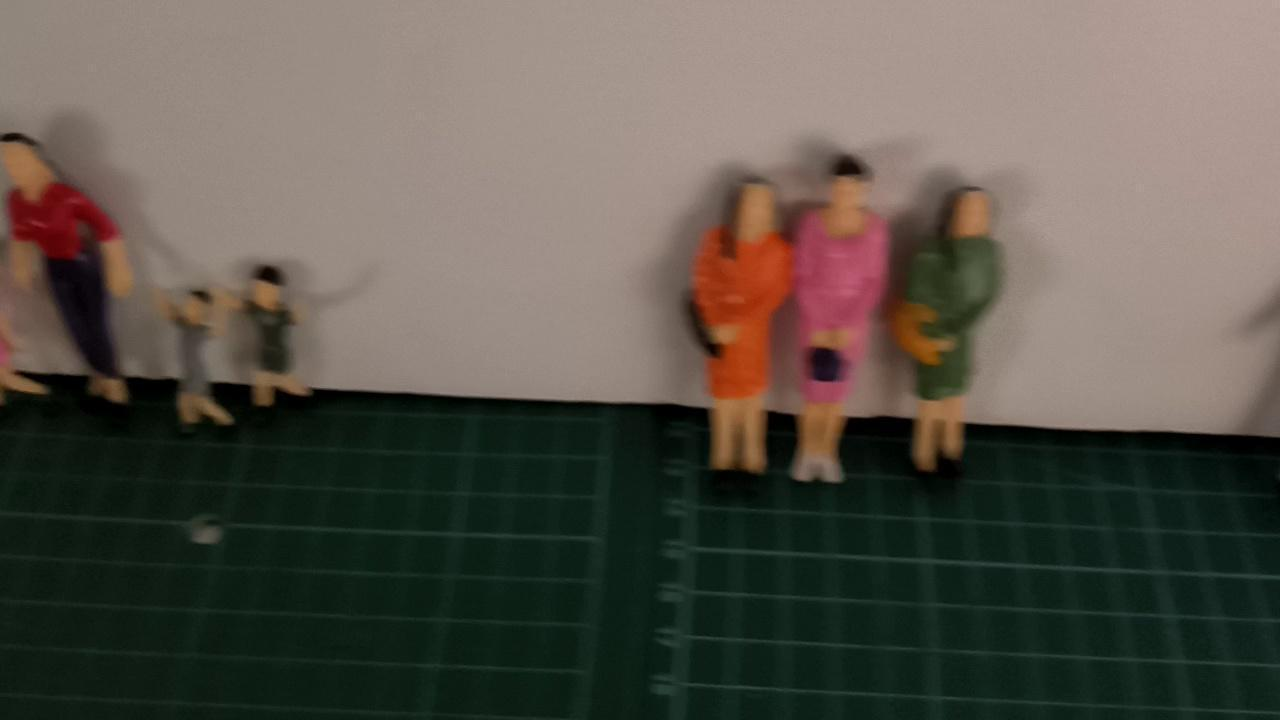human: (781, 157, 897, 497), (0, 130, 138, 406), (892, 180, 1008, 498), (682, 162, 782, 501), (220, 250, 323, 426), (147, 263, 243, 439)
